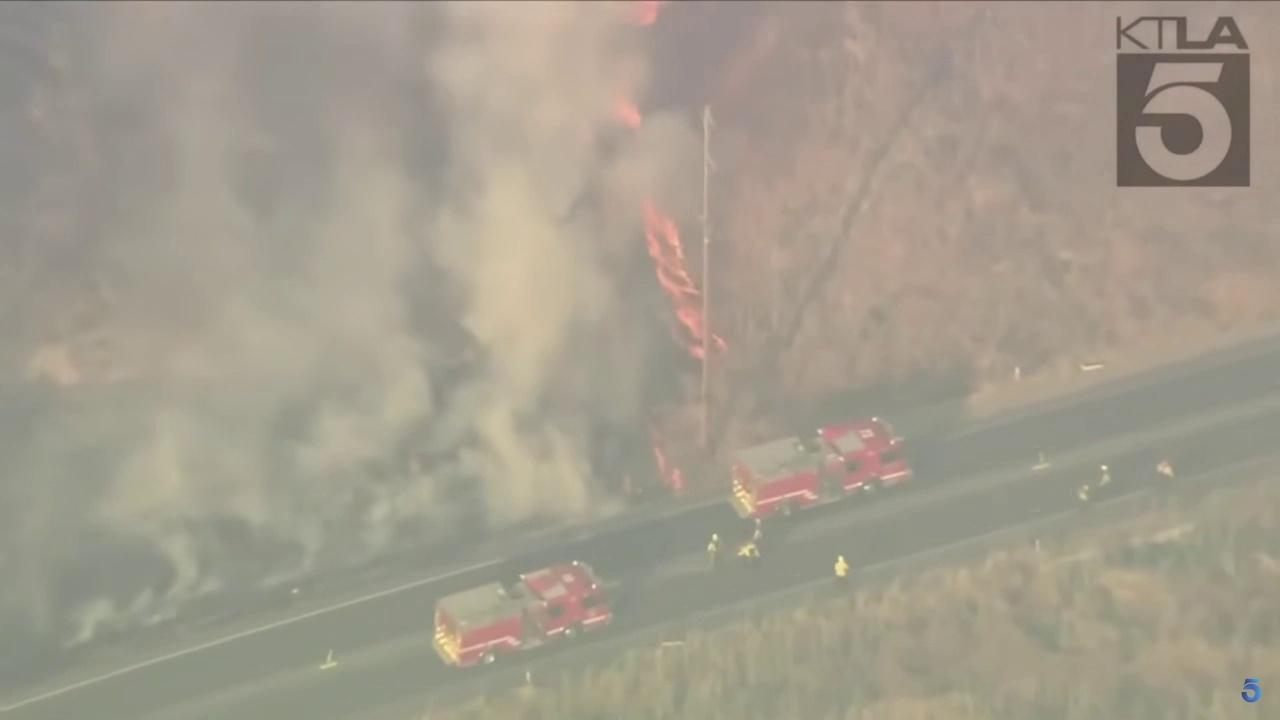fire: (641, 199, 727, 360), (653, 446, 683, 493), (615, 98, 644, 132), (633, 0, 661, 30)
smoke: (0, 0, 707, 645)
